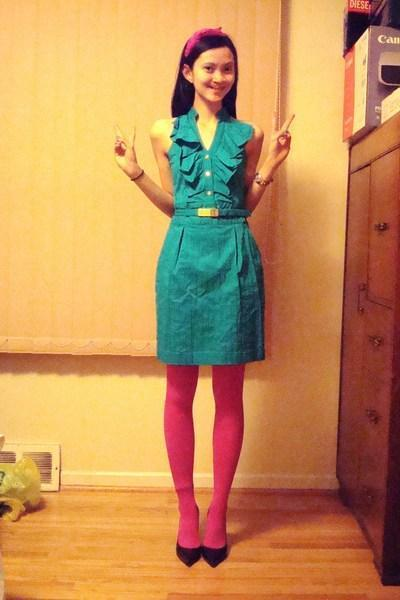dress: (155, 108, 264, 365)
shoe: (180, 544, 229, 563)
